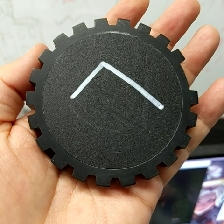gear: (24, 16, 200, 188)
missing: (169, 46, 200, 108)
